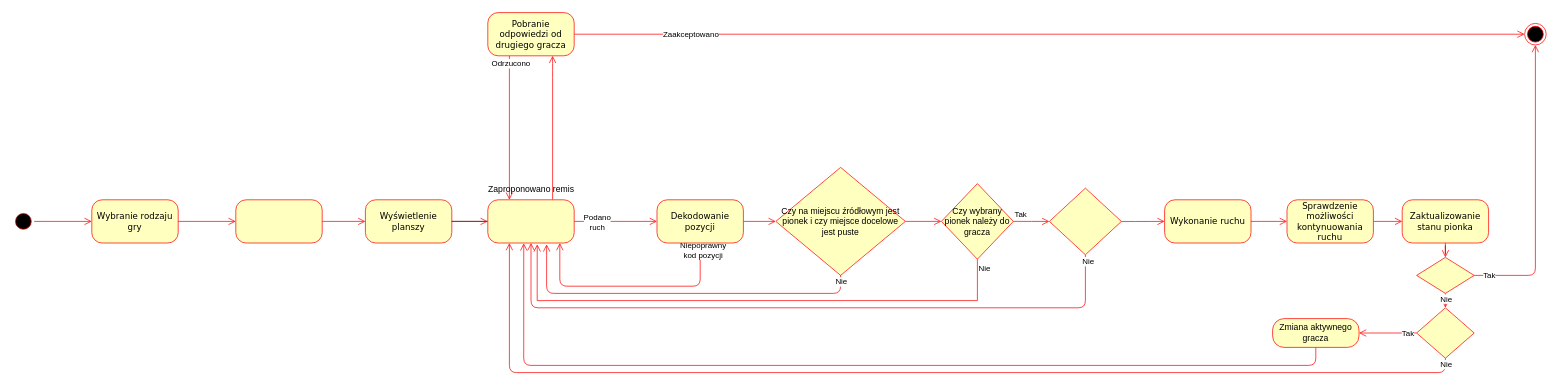
Image size: 1559x392. Some labels were removed from this diagram. Here are the shapes that lost their labels. From the top down, the centre of each, then its label:
At (x=278, y=221): "Przygotowanie rozgrywki".
At (x=530, y=221): "Pobranie ruchu od użytkownika".
At (x=1085, y=221): "Czy pionek wykorzystuje obowiązkowe bicie?".
At (x=1445, y=275): "Czy gra skończona".
At (x=1445, y=332): "Czy tura skończona?".
